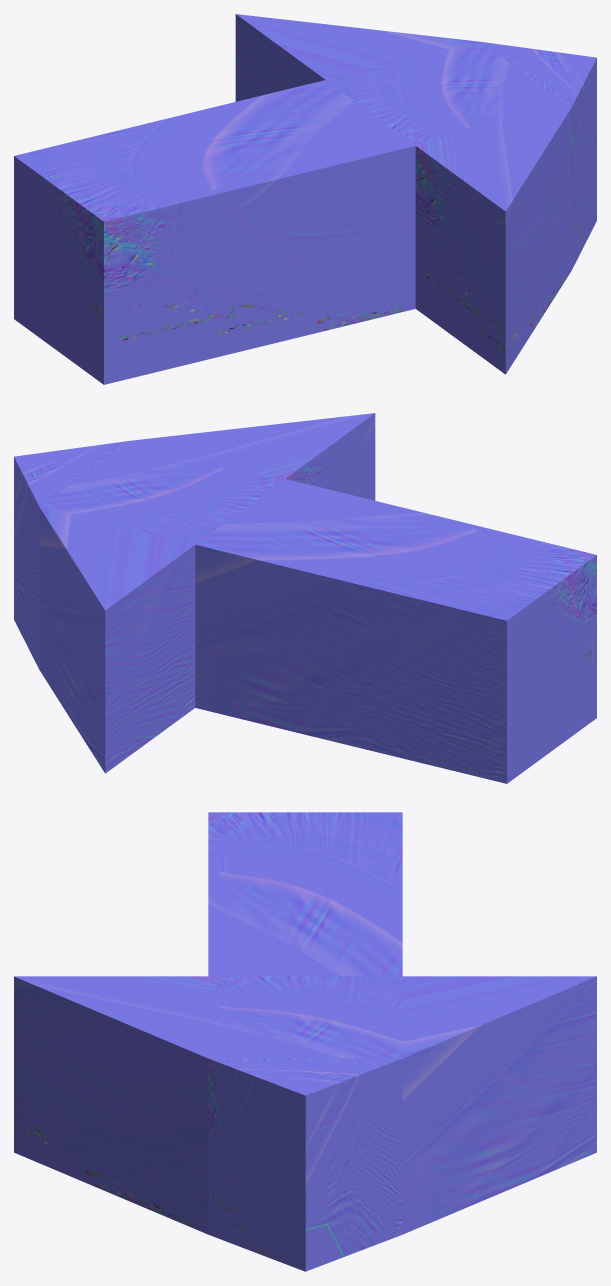
Rendered from right.gltf.
3 renders of one model, top to bottom at view 1: azimuth 30°, elevation 25°; view 2: azimuth 150°, elevation 25°; view 3: azimuth 270°, elevation 25°, orthographic. The views are drawn at different scales.
Parts seen in each view (by area): view 1: pCube4; view 2: pCube4; view 3: pCube4.
Part boxes in pixels (x1,y1,x2,y2): pCube4: [14, 14, 596, 384]; pCube4: [14, 413, 596, 783]; pCube4: [14, 812, 596, 1271].
Size of the model in its own units: 0.0345 by 0.01 by 0.03.
1 material, 1 textured.
